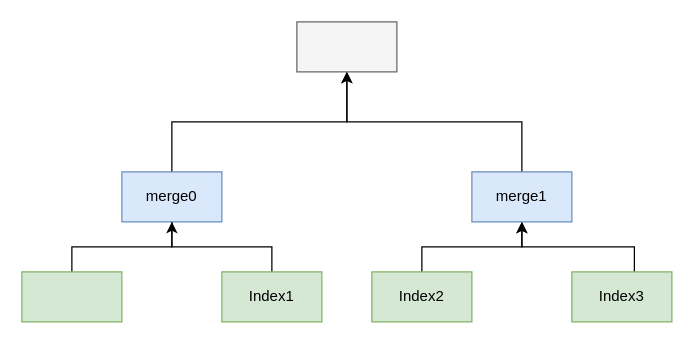
This 694x344 diagram has some shape labels left out. Each missing label, with the centre of its shape:
Final Index: (x=346, y=46)
Index0: (x=71, y=296)
